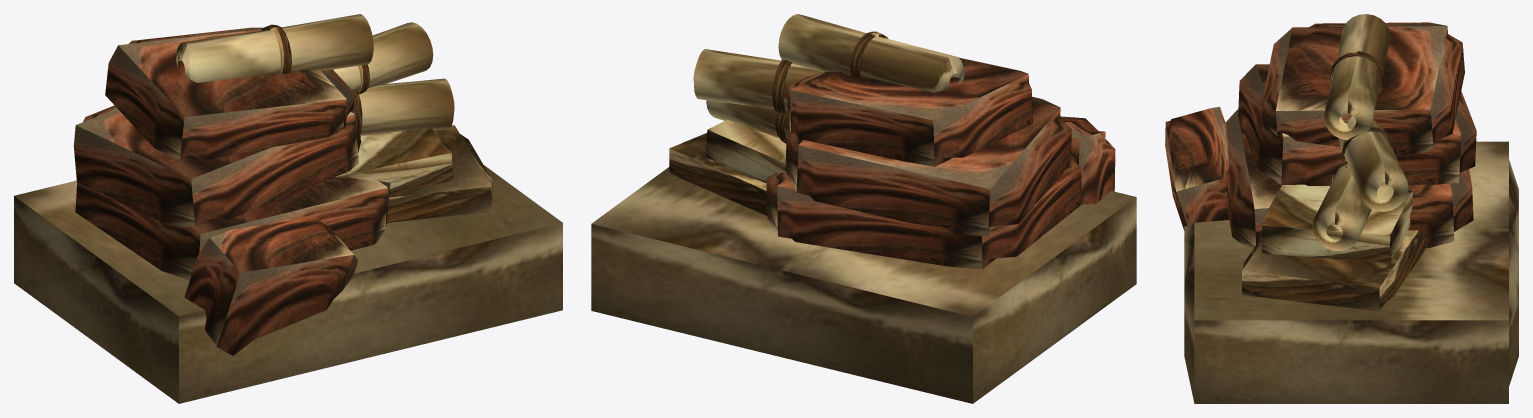
The model's file is cloak-and-parchments.glb.
3 renders of one model, left to right at view 1: azimuth 30°, elevation 25°; view 2: azimuth 150°, elevation 25°; view 3: azimuth 270°, elevation 25°, orthographic. The views are drawn at different scales.
Visible parts, largest first — view 1: HeroRelicMonument; view 2: HeroRelicMonument; view 3: HeroRelicMonument.
Part boxes in pixels (x1,y1,x2,y2): HeroRelicMonument: (14,14,562,403); HeroRelicMonument: (591,14,1136,403); HeroRelicMonument: (1165,14,1518,403).
Bounding box in the file's own units: 1.56 × 0.9959 × 1.23.
1 material, 1 textured.
